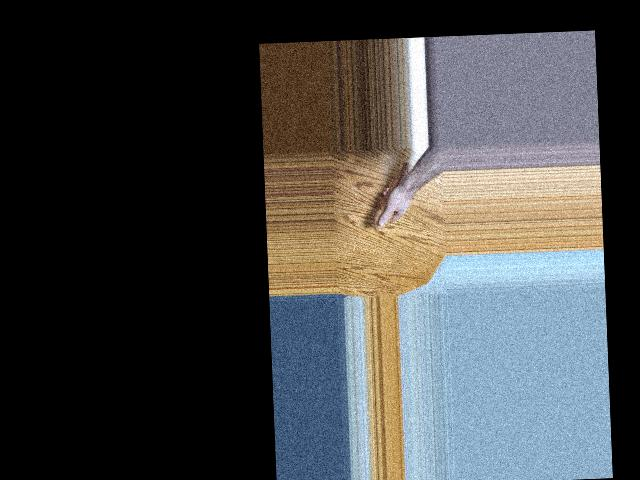sweet_potato: (369, 150, 414, 232)
